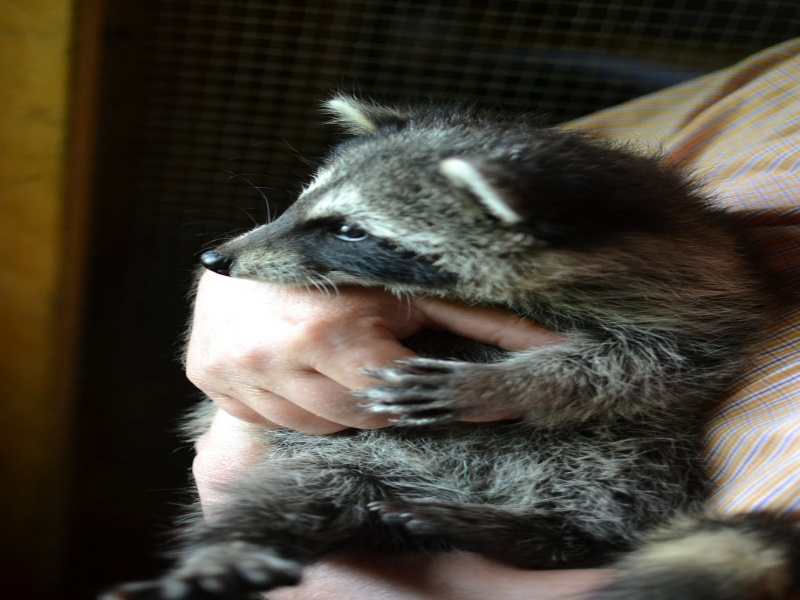raccoon: (172, 91, 768, 585)
